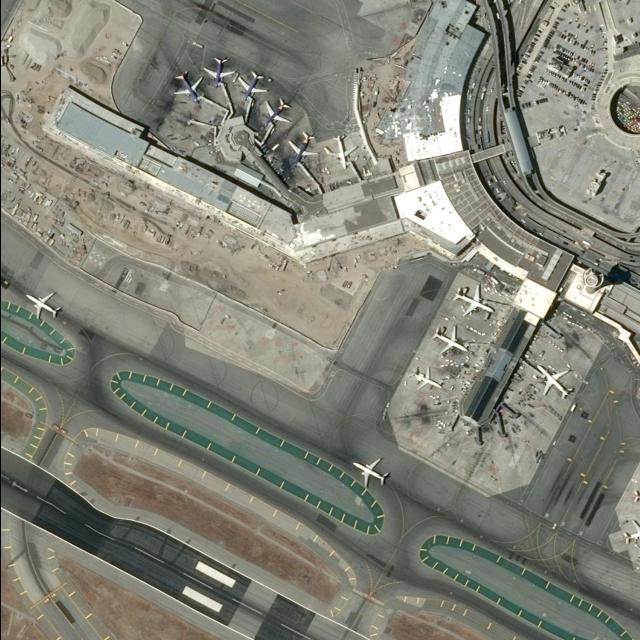Aircraft: (452, 284, 496, 317), (538, 363, 574, 400), (430, 325, 471, 355), (353, 456, 389, 488), (326, 134, 358, 168), (288, 130, 317, 167), (25, 292, 63, 319), (205, 55, 235, 89), (172, 69, 202, 103), (238, 70, 268, 103), (262, 98, 292, 126), (411, 366, 443, 392), (622, 519, 638, 551)
